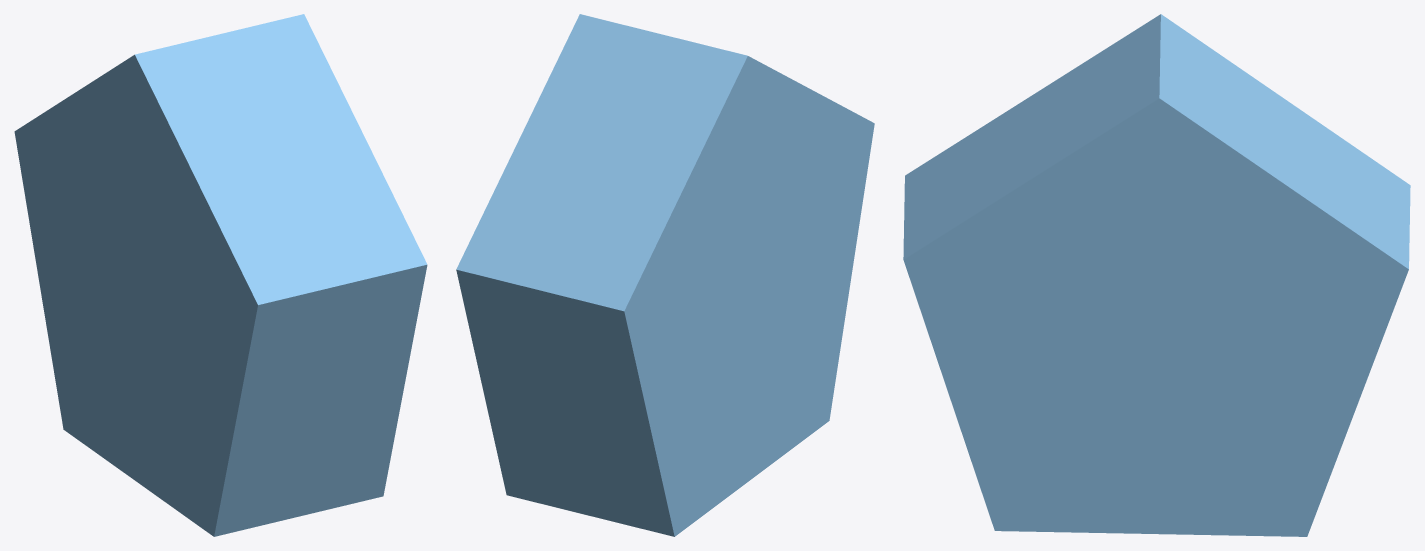
Rendered from deoxyribose.glb.
3 renders of one model, left to right at view 1: azimuth 30°, elevation 25°; view 2: azimuth 150°, elevation 25°; view 3: azimuth 270°, elevation 25°, orthographic. The views are drawn at different scales.
Visible parts, largest first — view 1: Deoxyribose.006; view 2: Deoxyribose.006; view 3: Deoxyribose.006.
Part boxes in pixels (x1=…): Deoxyribose.006: x1=14, y1=14, x2=427, y2=536; Deoxyribose.006: x1=456, y1=14, x2=874, y2=536; Deoxyribose.006: x1=903, y1=14, x2=1410, y2=536.
Bounding box in the file's own units: 0.3058 × 0.7276 × 0.763.
